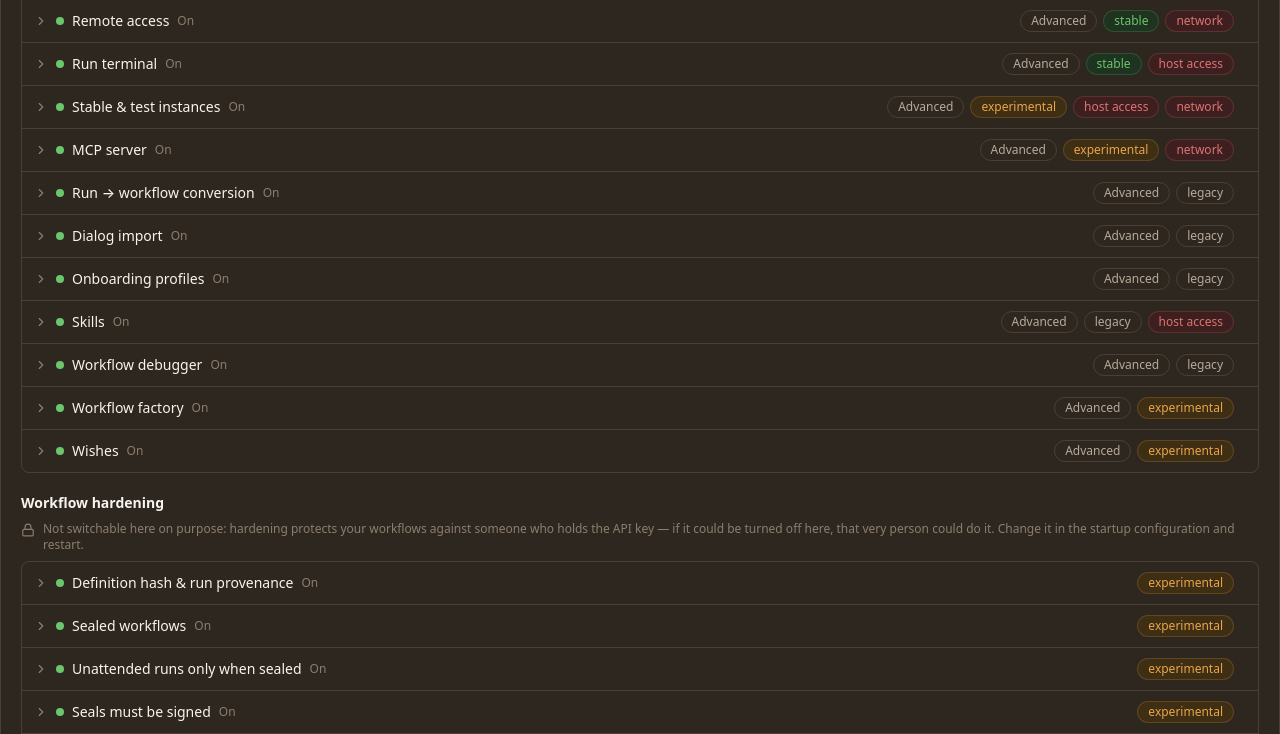
Test case: ModulesCard › offers the disable snippet and dependencies for an enabled module
The image size is (1280, 734).
(page scrolled)
Click the button "Wishes On Advanced experimental".
click(95, 450)  # box [22, 430, 1246, 472]
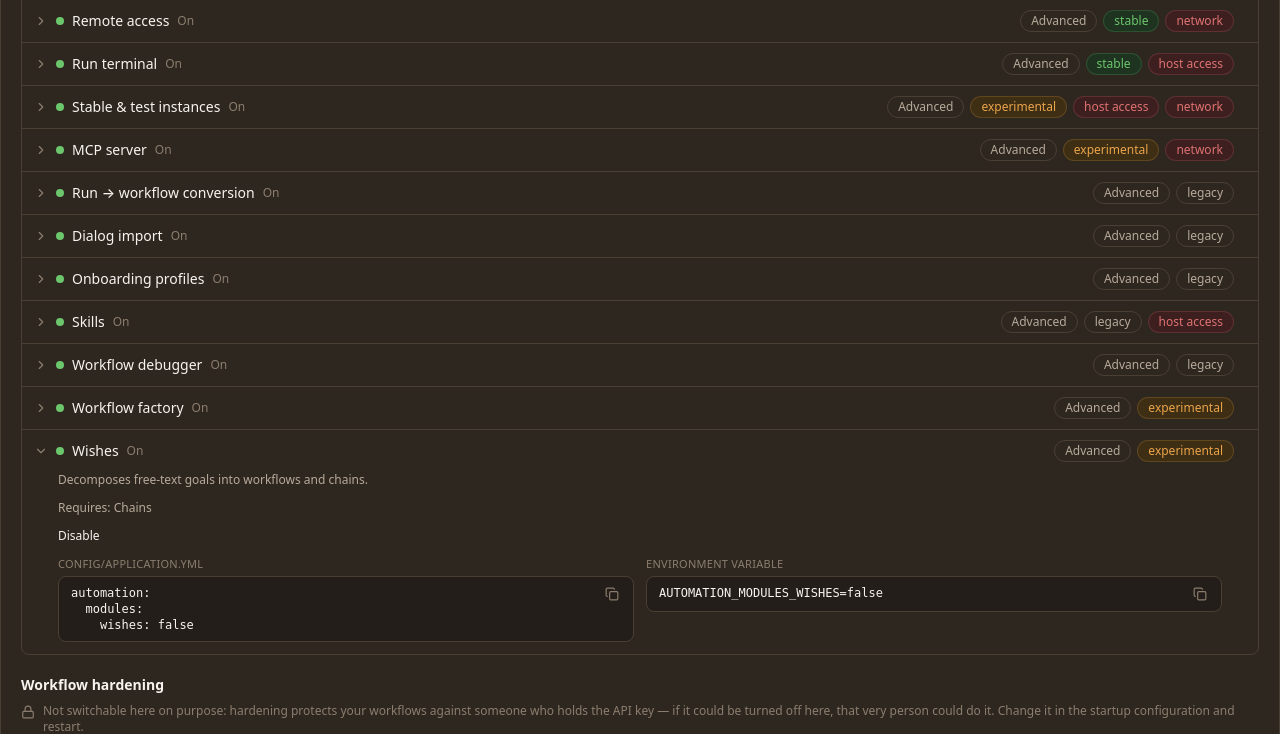
Expected: the text "Disable" is shown, [58, 526, 100, 544]
Expected: the text "Requires: Chains" is shown, [58, 498, 152, 516]
Expected: the text "AUTOMATION_MODULES_WISHES=false" is shown, [659, 586, 883, 600]
